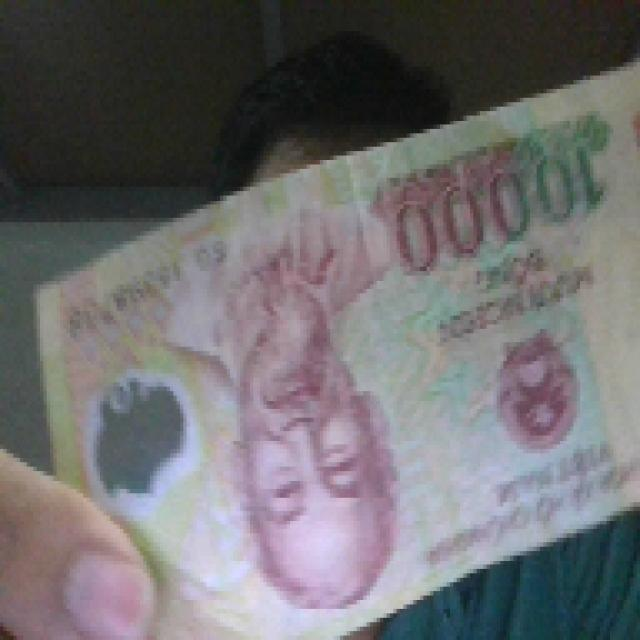10 000 VND: (30, 18, 637, 636)
